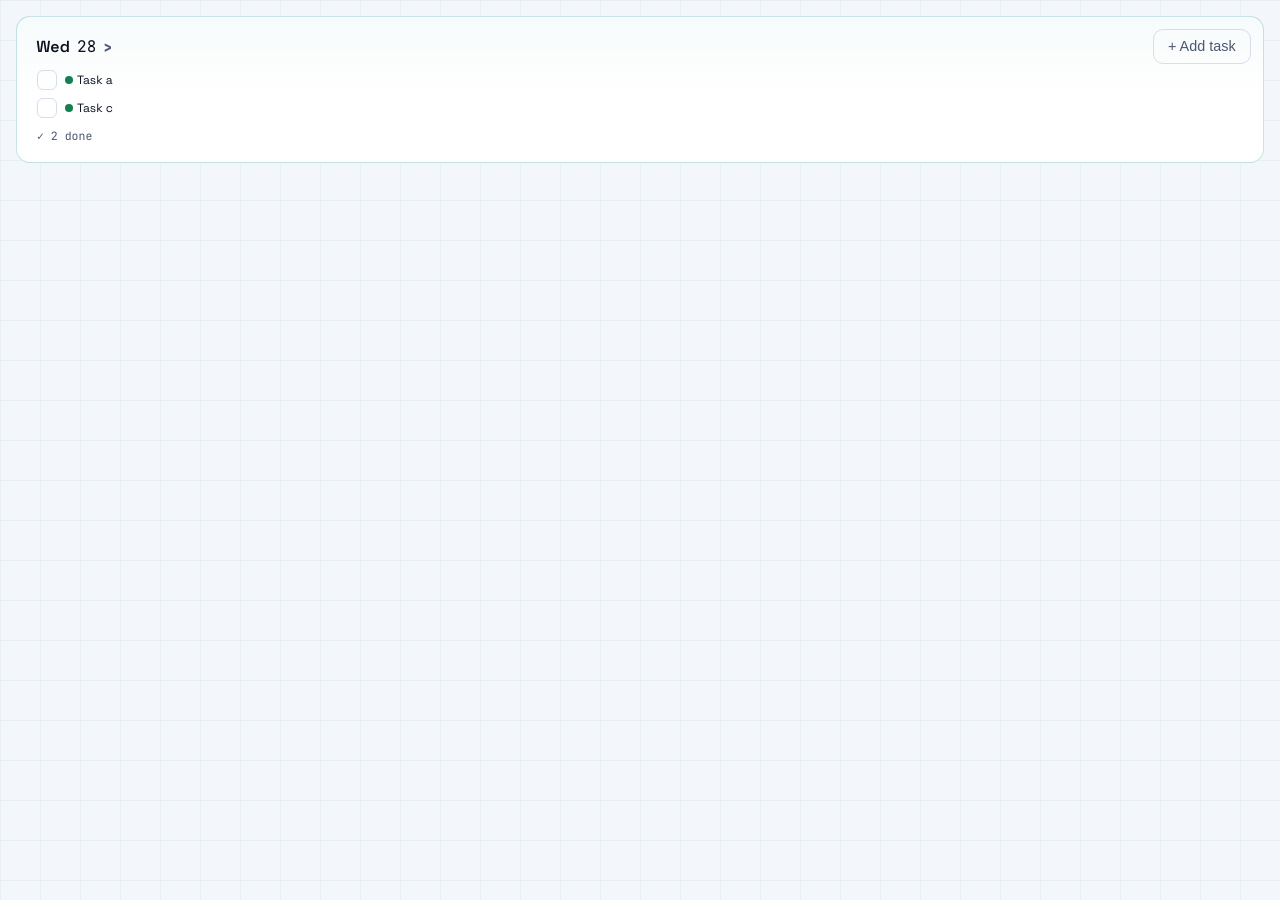
DayColumn fitting › at tight, folds finished tasks into ✓ N done, and clicking it shows them again
Click the button with class "fold-button" at (75, 136), box [33, 122, 1247, 150]
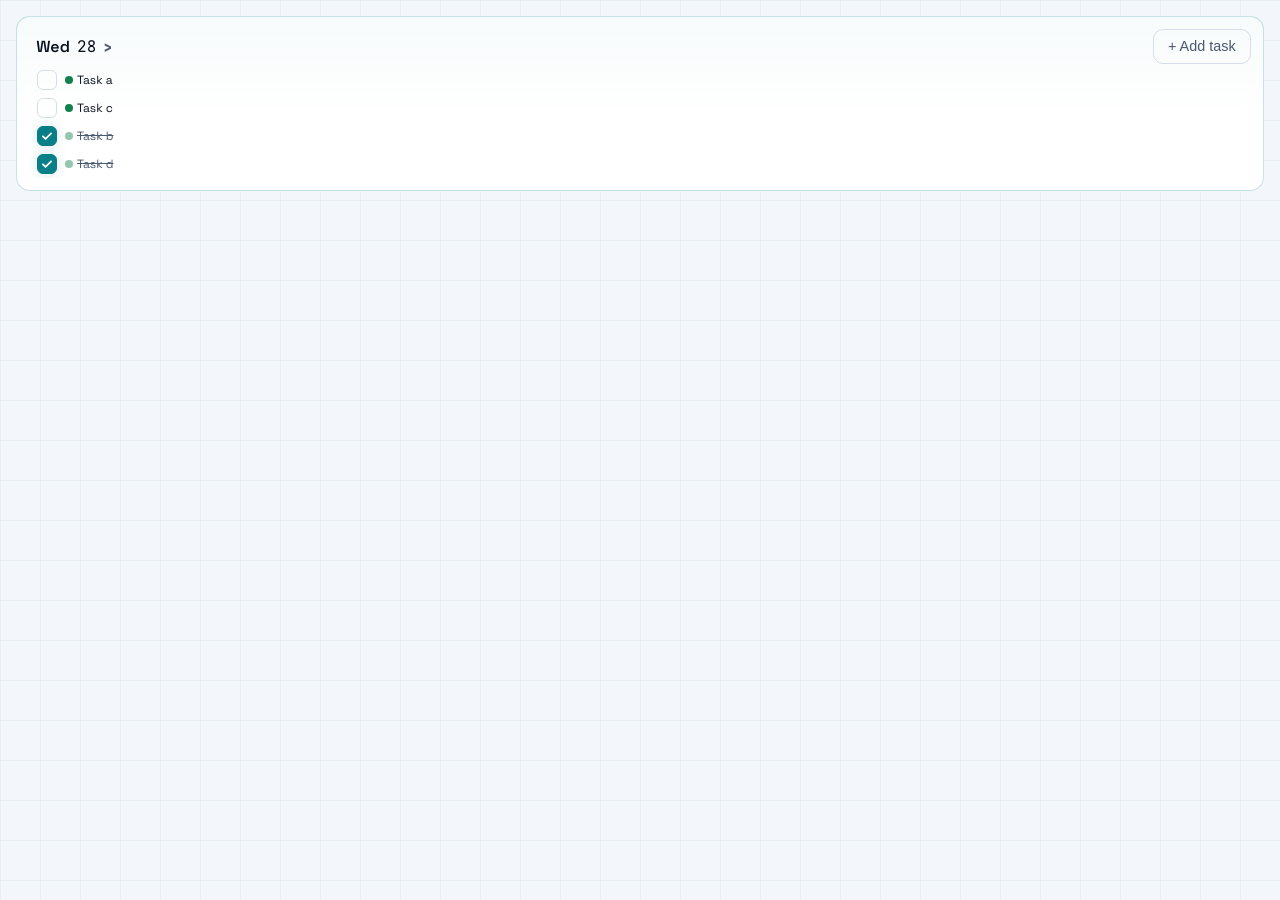
Expected: the button with class "fold-button" is gone
